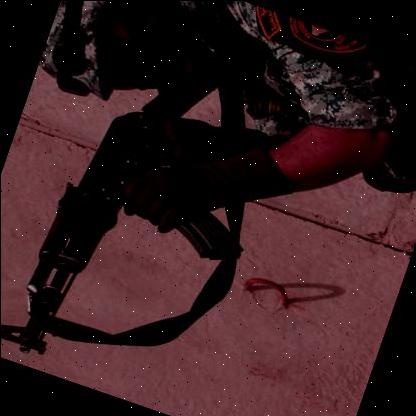rifle: (0, 39, 283, 410)
